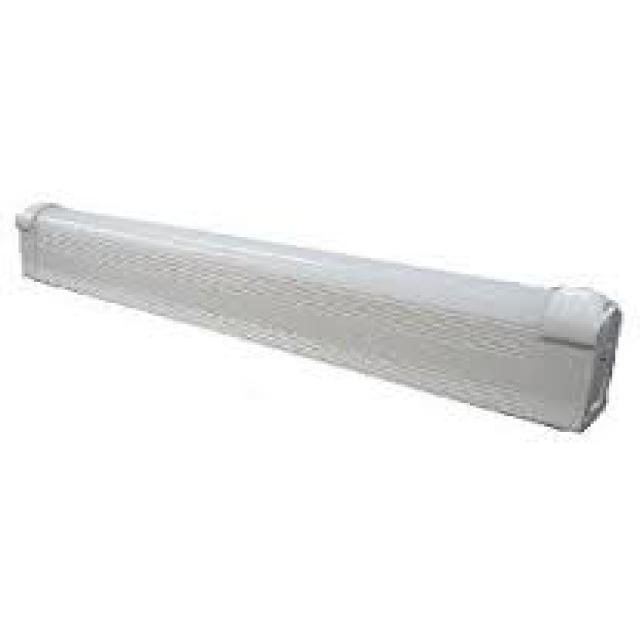tubelight_off: (14, 192, 624, 446)
